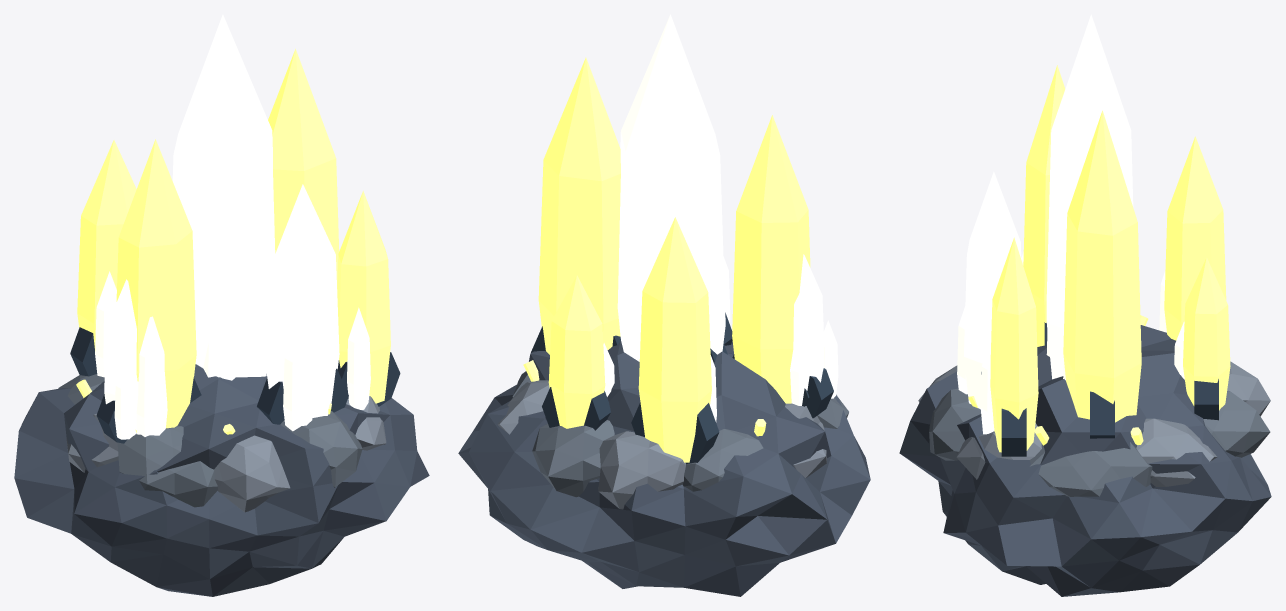
The model's file is ore_Promerium_detail.glb.
3 renders of one model, left to right at view 1: azimuth 30°, elevation 25°; view 2: azimuth 150°, elevation 25°; view 3: azimuth 270°, elevation 25°, orthographic.
Parts seen in each view (by area): view 1: root_fractured_asteroid, crystal_main_0, crystal_main_1, crystal_main_3, crystal_main_2, crystal_main_5, crystal_main_4, rock_armor_4, rock_armor_3, facet_spark_1, crystal_main_6, rock_armor_2 (+12 smaller); view 2: root_fractured_asteroid, crystal_main_0, crystal_main_2, crystal_main_1, crystal_main_4, crystal_main_7, rock_armor_7, rock_armor_8, crystal_main_6, rock_armor_6, rock_armor_9, crystal_socket_4 (+5 smaller); view 3: root_fractured_asteroid, crystal_main_2, crystal_main_0, crystal_main_4, crystal_main_5, crystal_main_3, crystal_main_1, crystal_main_7, rock_armor_0, rock_armor_9, rock_armor_8, rock_armor_2 (+7 smaller).
Part boxes in pixels (left/top/right/bottom): root_fractured_asteroid: left=14, top=364, right=429, bottom=596; crystal_main_0: left=172, top=14, right=275, bottom=377; crystal_main_1: left=116, top=139, right=196, bottom=428; crystal_main_3: left=266, top=184, right=339, bottom=417; crystal_main_2: left=268, top=49, right=339, bottom=288; crystal_main_5: left=337, top=191, right=390, bottom=403; crystal_main_4: left=77, top=140, right=136, bottom=350; rock_armor_4: left=117, top=425, right=217, bottom=507; rock_armor_3: left=214, top=435, right=290, bottom=512; facet_spark_1: left=136, top=316, right=167, bottom=436; crystal_main_6: left=104, top=279, right=138, bottom=435; rock_armor_2: left=280, top=411, right=362, bottom=487; root_fractured_asteroid: left=458, top=341, right=870, bottom=596; crystal_main_0: left=617, top=14, right=725, bottom=361; crystal_main_2: left=538, top=57, right=620, bottom=354; crystal_main_1: left=732, top=115, right=810, bottom=403; crystal_main_4: left=638, top=217, right=711, bottom=462; crystal_main_7: left=548, top=275, right=605, bottom=428; rock_armor_7: left=598, top=431, right=685, bottom=509; rock_armor_8: left=532, top=420, right=614, bottom=497; crystal_main_6: left=790, top=254, right=824, bottom=405; rock_armor_6: left=682, top=429, right=763, bottom=491; rock_armor_9: left=497, top=380, right=549, bottom=434; crystal_socket_4: left=631, top=402, right=719, bottom=463; root_fractured_asteroid: left=899, top=325, right=1271, bottom=596; crystal_main_2: left=1063, top=110, right=1141, bottom=422; crystal_main_0: left=1046, top=14, right=1133, bottom=379; crystal_main_4: left=1164, top=136, right=1226, bottom=340; crystal_main_5: left=990, top=237, right=1038, bottom=452; crystal_main_3: left=964, top=171, right=1021, bottom=408; crystal_main_1: left=1023, top=65, right=1065, bottom=346; crystal_main_7: left=1183, top=257, right=1230, bottom=410; rock_armor_0: left=1029, top=442, right=1152, bottom=496; rock_armor_9: left=1136, top=418, right=1217, bottom=486; rock_armor_8: left=1203, top=390, right=1270, bottom=457; rock_armor_2: left=929, top=388, right=980, bottom=460.
Size of the model in its own units: 1.83 by 2.71 by 1.64.
